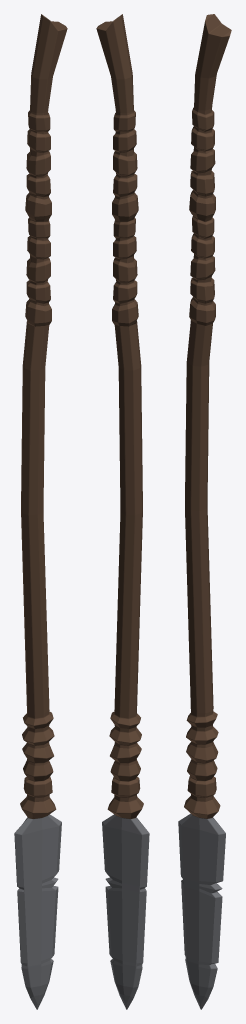
File: spear_2.glb
3 renders of one model, left to right at view 1: azimuth 30°, elevation 25°; view 2: azimuth 150°, elevation 25°; view 3: azimuth 330°, elevation 25°, orthographic.
Visible parts, largest first — view 1: spear_2; view 2: spear_2; view 3: spear_2.
Part boxes in pixels (<box>): spear_2: <box>14,14,67,1009</box>; spear_2: <box>96,14,149,1009</box>; spear_2: <box>178,14,231,1009</box>.
Size of the model in its own units: 0.1085 by 2 by 0.066.
